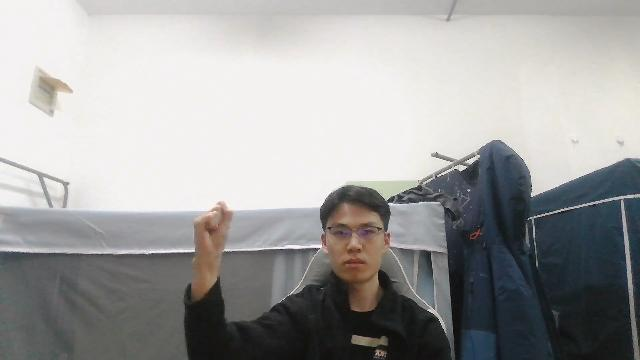ten: (189, 199, 238, 275)
